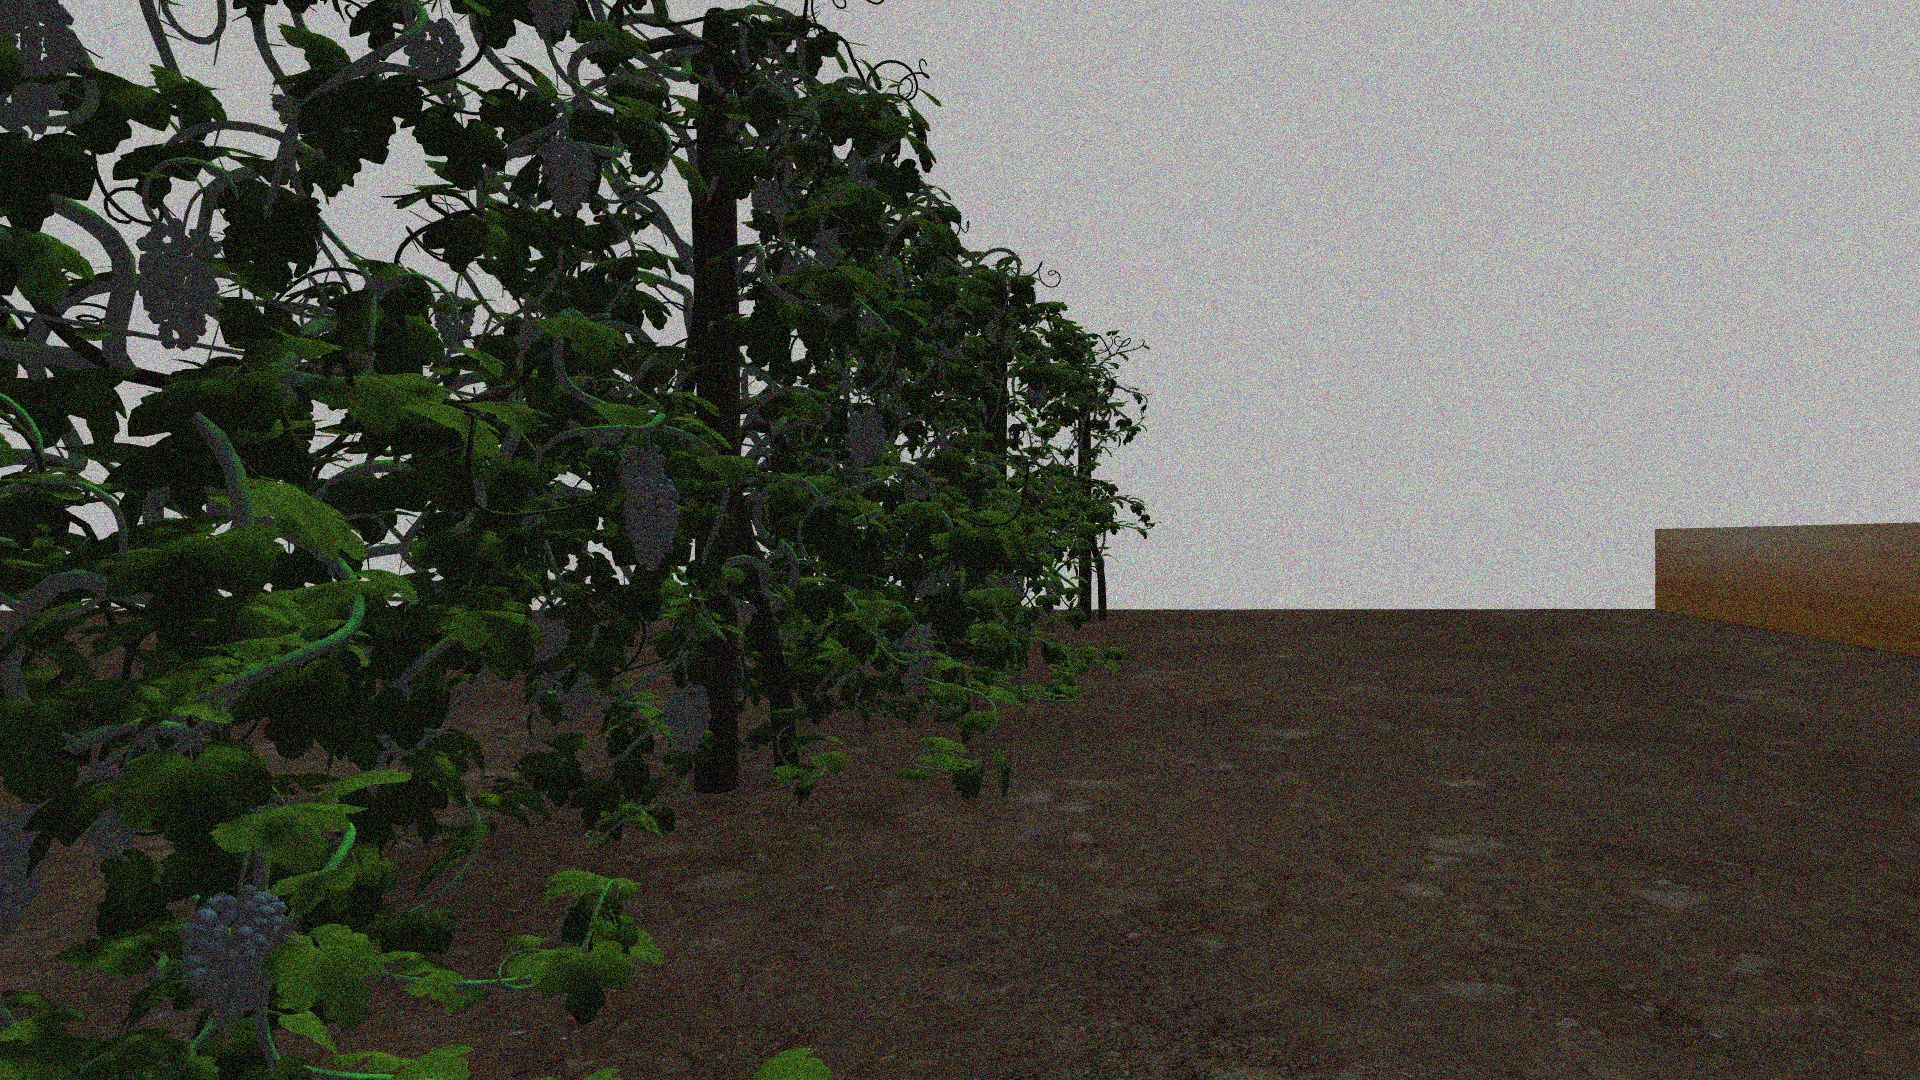grape: (183, 884, 291, 1029), (135, 218, 223, 349), (7, 7, 79, 142), (624, 473, 682, 576), (541, 137, 597, 216), (406, 18, 463, 95), (665, 682, 713, 757), (889, 621, 934, 692), (847, 404, 887, 465), (750, 175, 791, 229), (1029, 378, 1048, 410)
